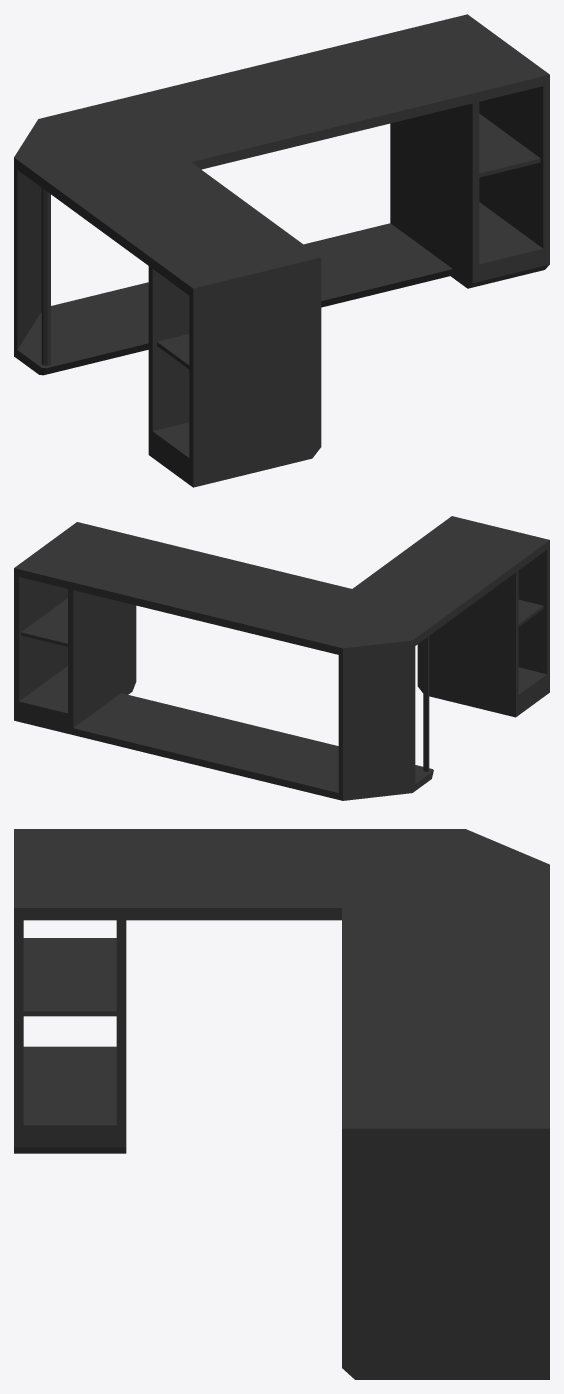
Rendered from Desk_L.obj.
3 renders of one model, top to bottom at view 1: azimuth 30°, elevation 25°; view 2: azimuth 150°, elevation 25°; view 3: azimuth 270°, elevation 25°, orthographic. The views are drawn at different scales.
Visible parts, largest first — view 1: Desk_L; view 2: Desk_L; view 3: Desk_L.
Part boxes in pixels (box(x1,y1,x2,y2)): Desk_L: box(14, 14, 549, 487); Desk_L: box(14, 516, 549, 800); Desk_L: box(14, 829, 549, 1379).
Bounding box in the file's own units: 2.55 × 0.9955 × 1.93.
